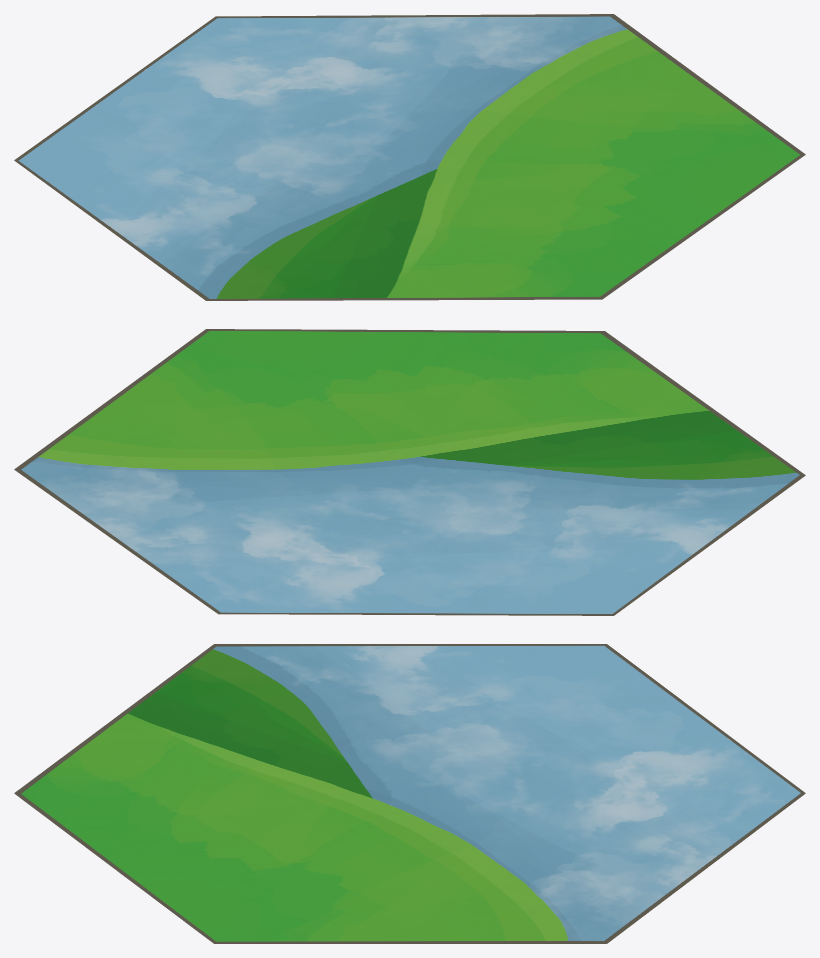
Rendered from Plains Tile.fbx.
The picture shows the model from 3 angles, top to bottom: view 1: azimuth 30°, elevation 25°; view 2: azimuth 150°, elevation 25°; view 3: azimuth 270°, elevation 25°; orthographic projection. The views are drawn at different scales.
Visible parts, largest first — view 1: Plane; view 2: Plane; view 3: Plane.
Part boxes in pixels (left/top/right/bottom): Plane: left=14, top=14, right=805, bottom=300; Plane: left=14, top=329, right=805, bottom=615; Plane: left=14, top=644, right=805, bottom=943.
Size of the model in its own units: 179 by 3.26e-05 by 200.
1 material, 1 textured.
